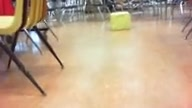cube: (110, 11, 130, 31)
